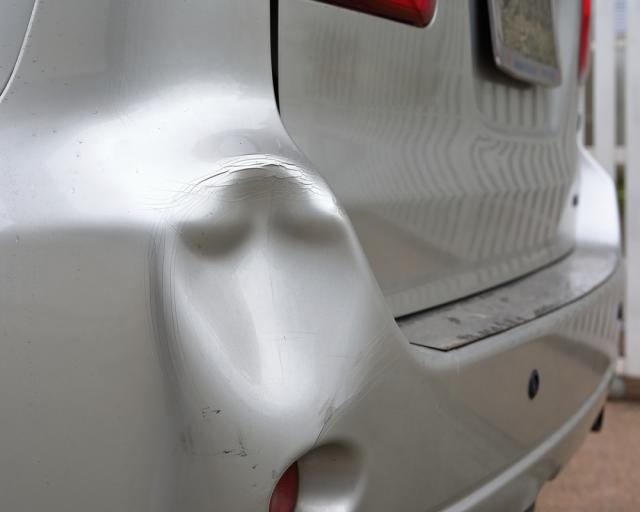dent: (167, 159, 368, 406)
